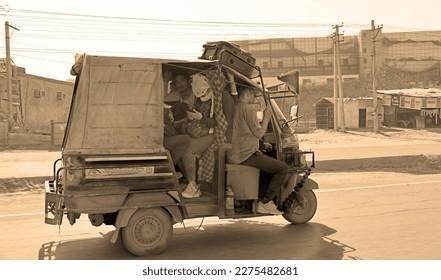keke: (32, 36, 322, 259)
